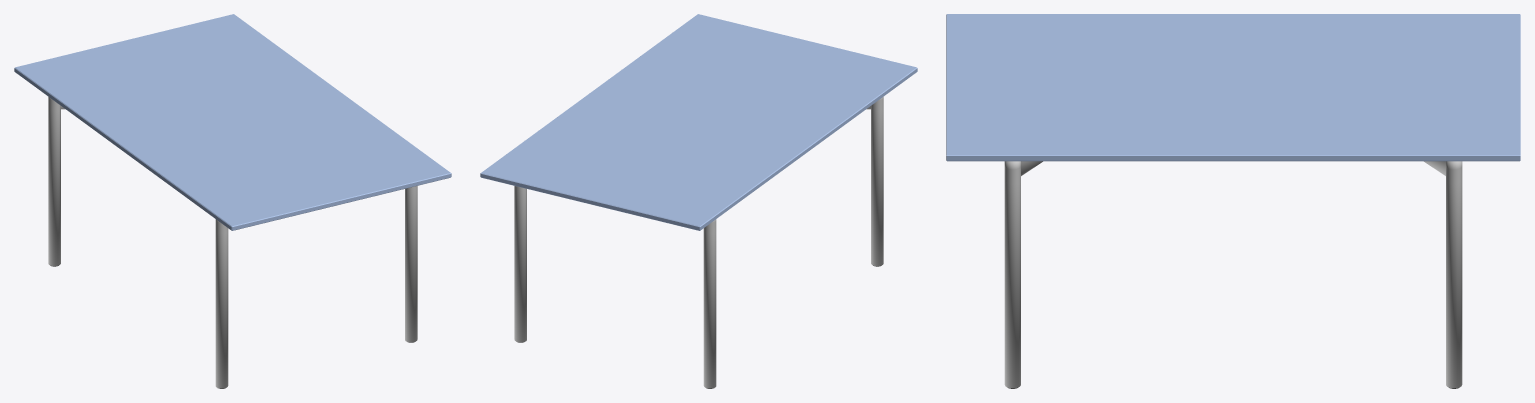
The model's file is dinning_table.fbx.
3 renders of one model, left to right at view 1: azimuth 30°, elevation 25°; view 2: azimuth 150°, elevation 25°; view 3: azimuth 270°, elevation 25°, orthographic. The views are drawn at different scales.
Visible parts, largest first — view 1: diningtable_05_183x106_table, diningtable_05_183x106_legs; view 2: diningtable_05_183x106_table, diningtable_05_183x106_legs; view 3: diningtable_05_183x106_table, diningtable_05_183x106_legs.
Boxes of the visible parts, <box> form: diningtable_05_183x106_table: <box>14,14,451,388</box>; diningtable_05_183x106_legs: <box>48,97,417,388</box>; diningtable_05_183x106_table: <box>480,14,917,388</box>; diningtable_05_183x106_legs: <box>514,97,883,388</box>; diningtable_05_183x106_table: <box>946,14,1520,388</box>; diningtable_05_183x106_legs: <box>1004,161,1462,388</box>.
Bounding box in the file's own units: 107 × 84.58 × 183.
